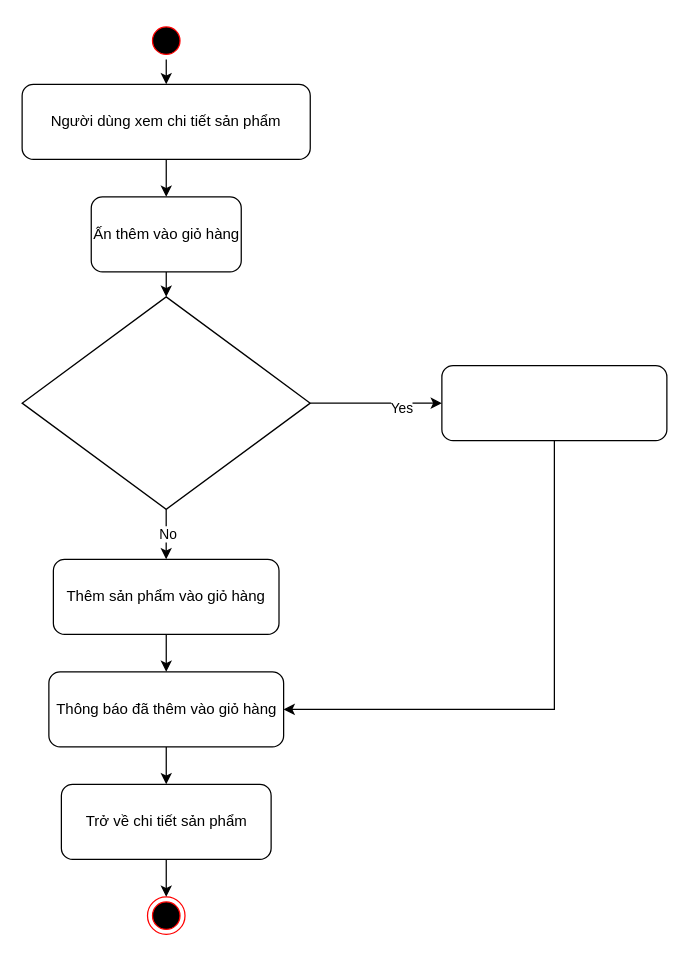
The diagram is 689 pixels wide and 956 high, and some of its shapes have lost their labels. Here are the shapes that lost their labels. From the top down, the box of each, then its label:
(21, 296, 310, 509): Sản phẩm đã tồn tại trong giỏ hàng?
(441, 364, 667, 441): Tăng số lượng sản phẩm trong giỏ hàng
